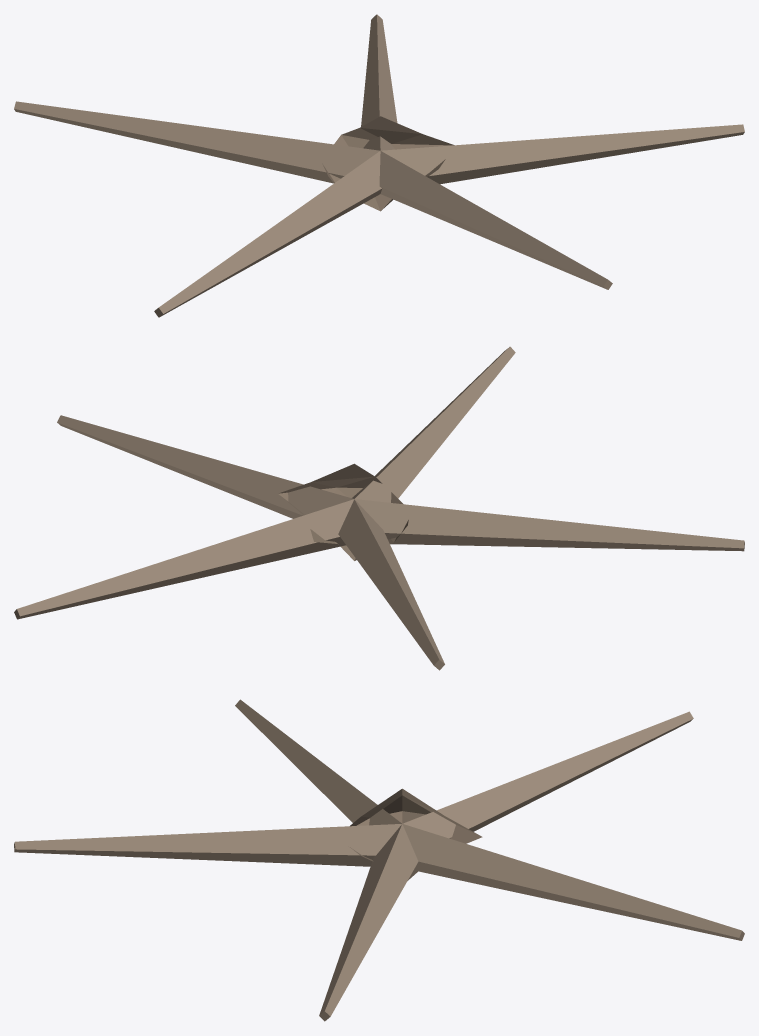
3 renders of one model, top to bottom at view 1: azimuth 30°, elevation 25°; view 2: azimuth 150°, elevation 25°; view 3: azimuth 270°, elevation 25°, orthographic. The views are drawn at different scales.
Parts seen in each view (by area): view 1: lod0; view 2: lod0; view 3: lod0.
Part boxes in pixels (x1,y1,x2,y2): lod0: (14,14,744,317); lod0: (14,346,744,670); lod0: (14,699,744,1021).
Size of what is drawn, in the model's own units: 1.52 by 0.2199 by 1.5.
